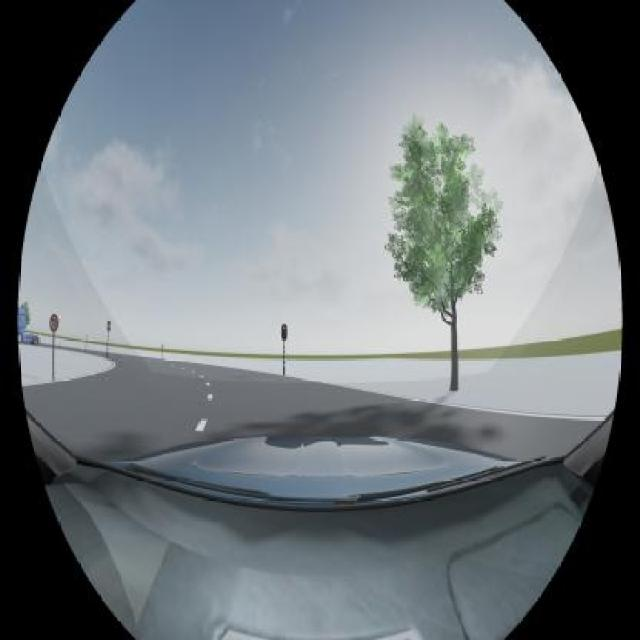forb_speed_over_70: (49, 314, 60, 332)
